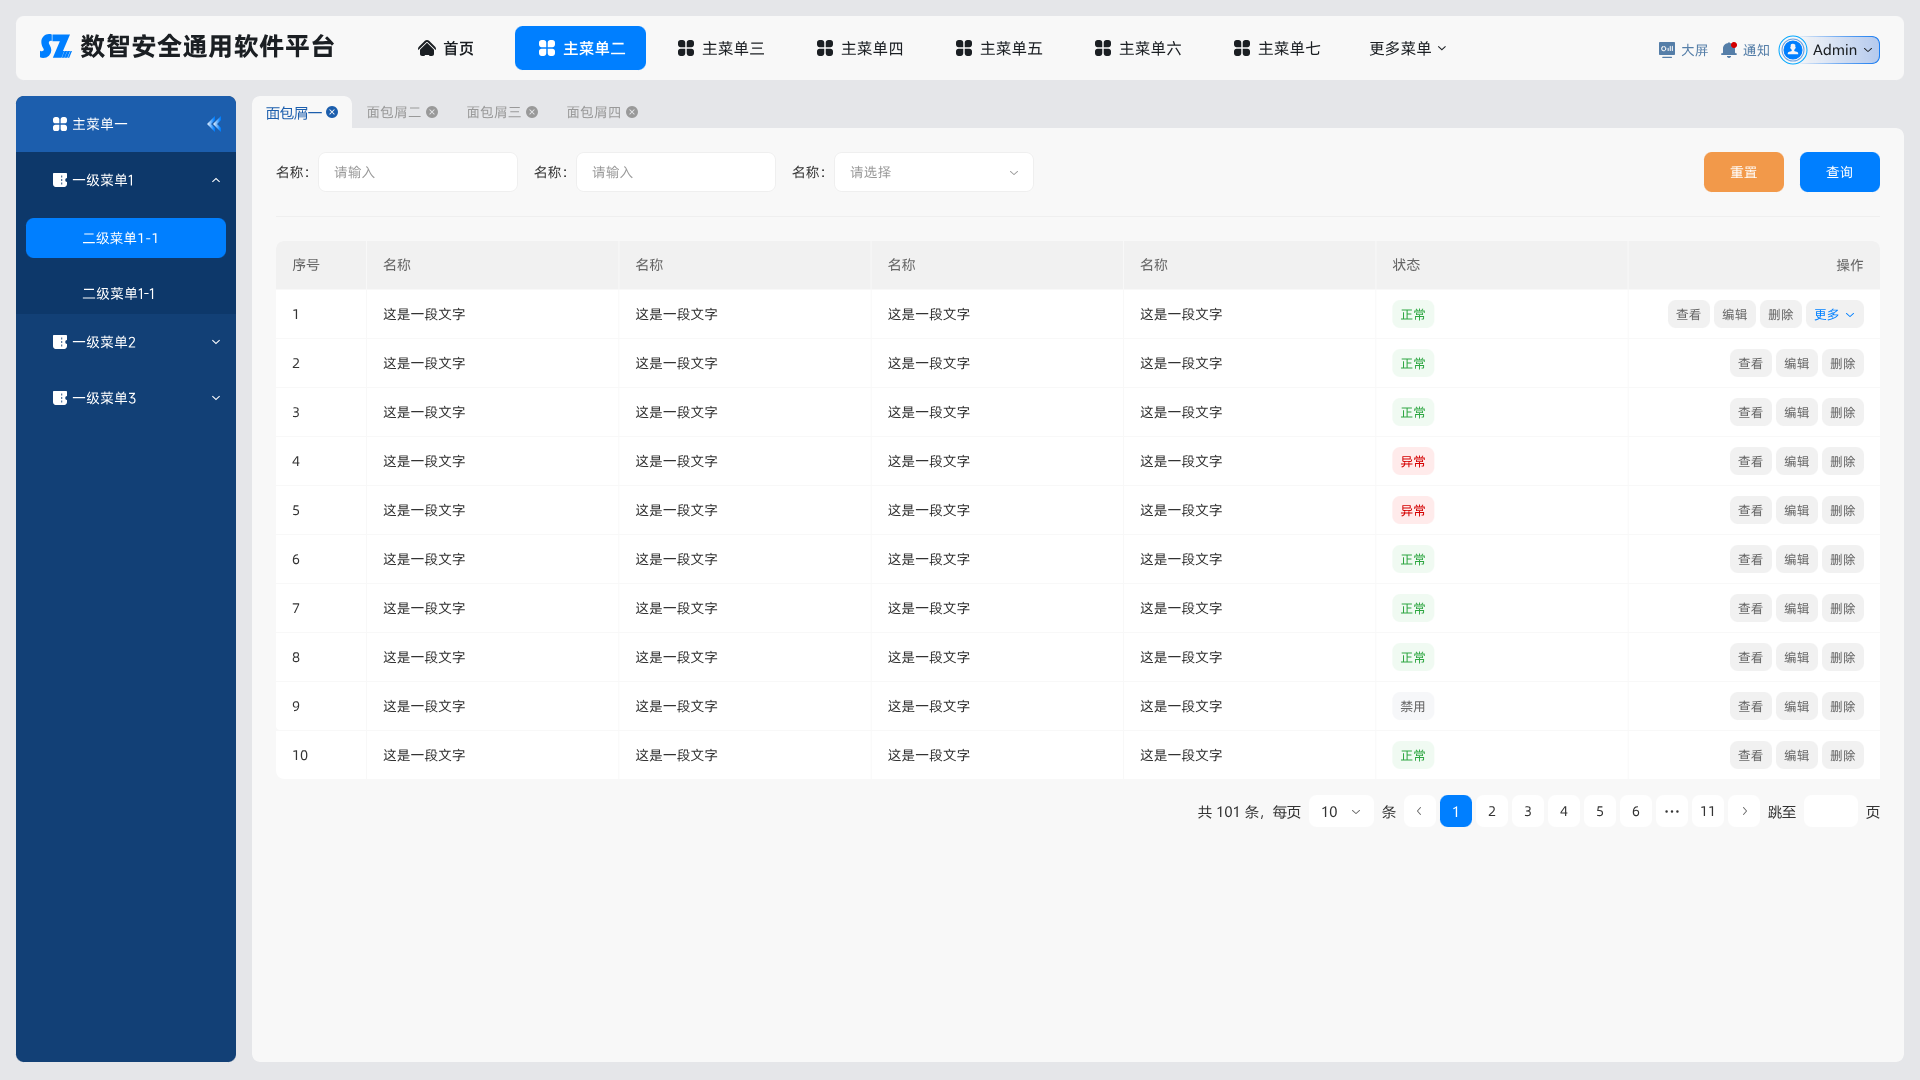label-input-input: (315, 142, 521, 196), (832, 146, 1038, 198), (571, 148, 778, 194)
label-input-label: (530, 160, 570, 189), (270, 160, 313, 183), (789, 161, 828, 182)
query-btn: (1797, 138, 1895, 210)
reset-btn: (1688, 138, 1792, 212)
table: (258, 225, 1900, 855)
